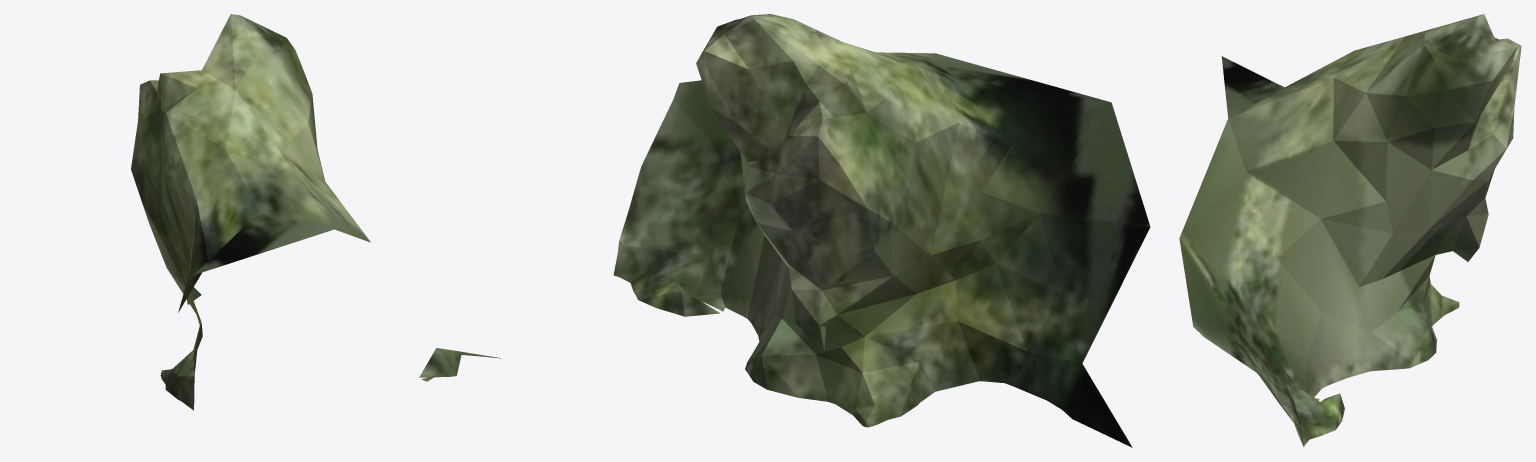
The picture shows the model from 3 angles, left to right: view 1: azimuth 30°, elevation 25°; view 2: azimuth 150°, elevation 25°; view 3: azimuth 270°, elevation 25°; orthographic projection. The views are drawn at different scales.
Bounding box in the file's own units: 6.73 × 4.49 × 4.19.
Materials: 1 (1 with a texture image).
